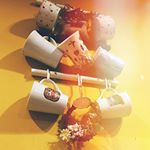cups: (23, 75, 69, 119), (20, 28, 66, 71), (95, 85, 136, 120)
